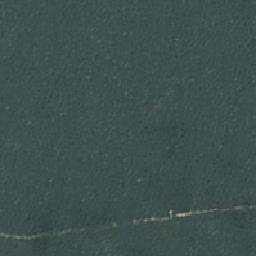debris: (135, 210, 190, 226), (1, 229, 69, 240), (189, 205, 256, 213)
